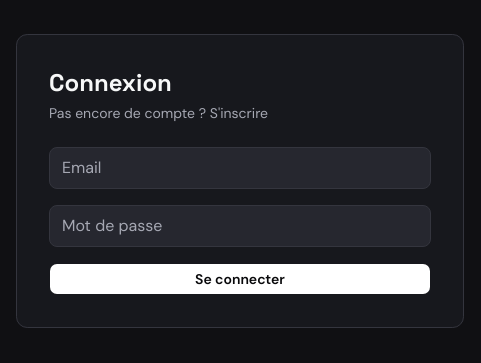
Test: LoginPage › shows a French error on rejected credentials
Type "john@example.com" into the field labelled "Email" at (240, 168), box [49,147,431,189]
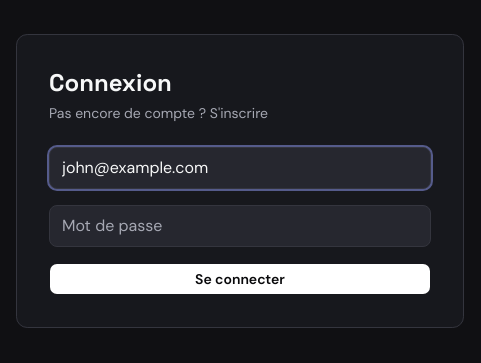
Type "wrong-password" into the password field labelled "Mot de passe" at (240, 226), box [49,205,431,247]
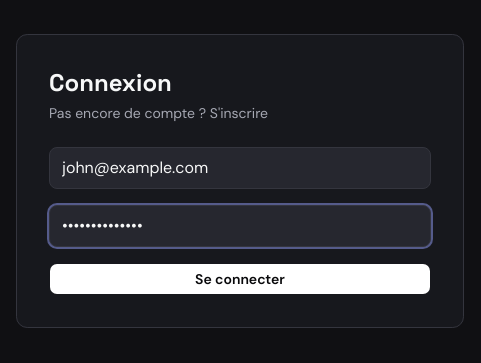
Click the button "Se connecter" at (240, 279), box [49,263,431,295]
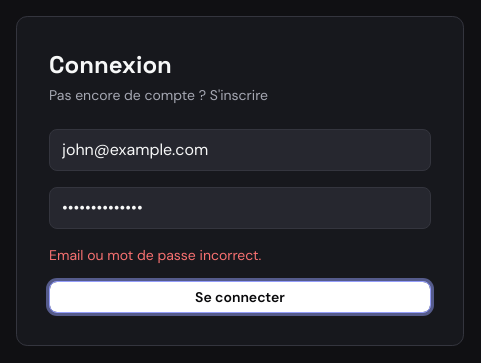
Expected: the text "Email ou mot de passe incorrect." is shown, [49,246,261,264]
